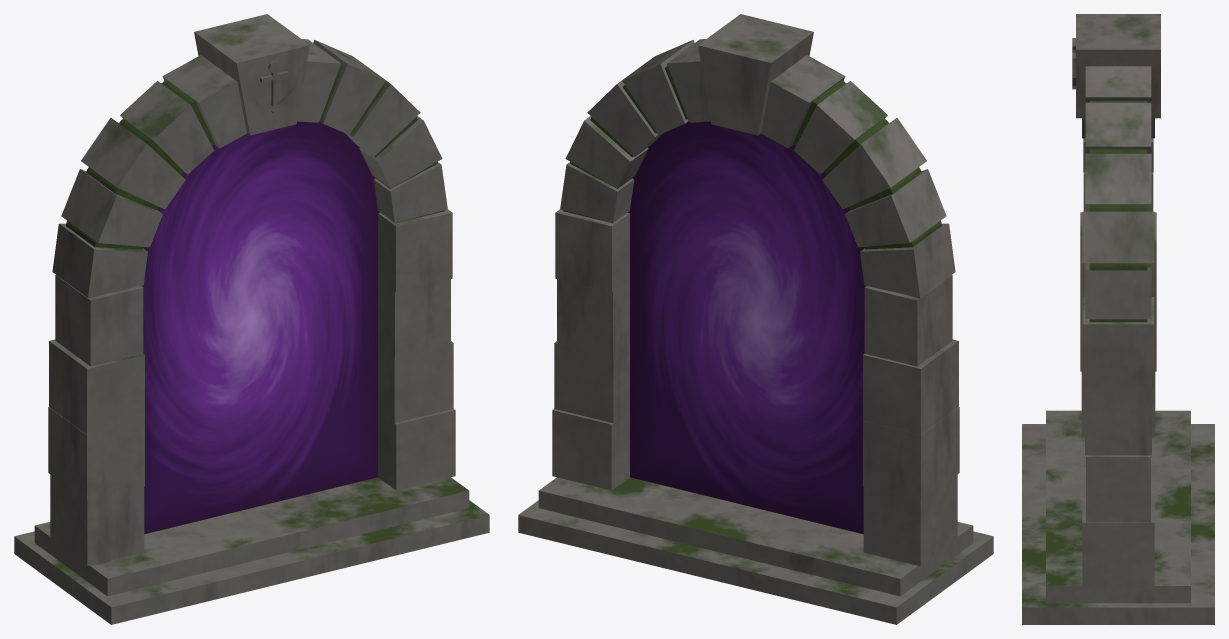
3 renders of one model, left to right at view 1: azimuth 30°, elevation 25°; view 2: azimuth 150°, elevation 25°; view 3: azimuth 270°, elevation 25°, orthographic.
Visible parts, largest first — view 1: 포탈_작은_뽑기; view 2: 포탈_작은_뽑기; view 3: 포탈_작은_뽑기.
Part boxes in pixels (<box>): 포탈_작은_뽑기: <box>14,14,489,624</box>; 포탈_작은_뽑기: <box>518,14,993,624</box>; 포탈_작은_뽑기: <box>1022,14,1214,624</box>.
Bounding box in the file's own units: 900 × 1147 × 400.
3 materials, 3 textured.
